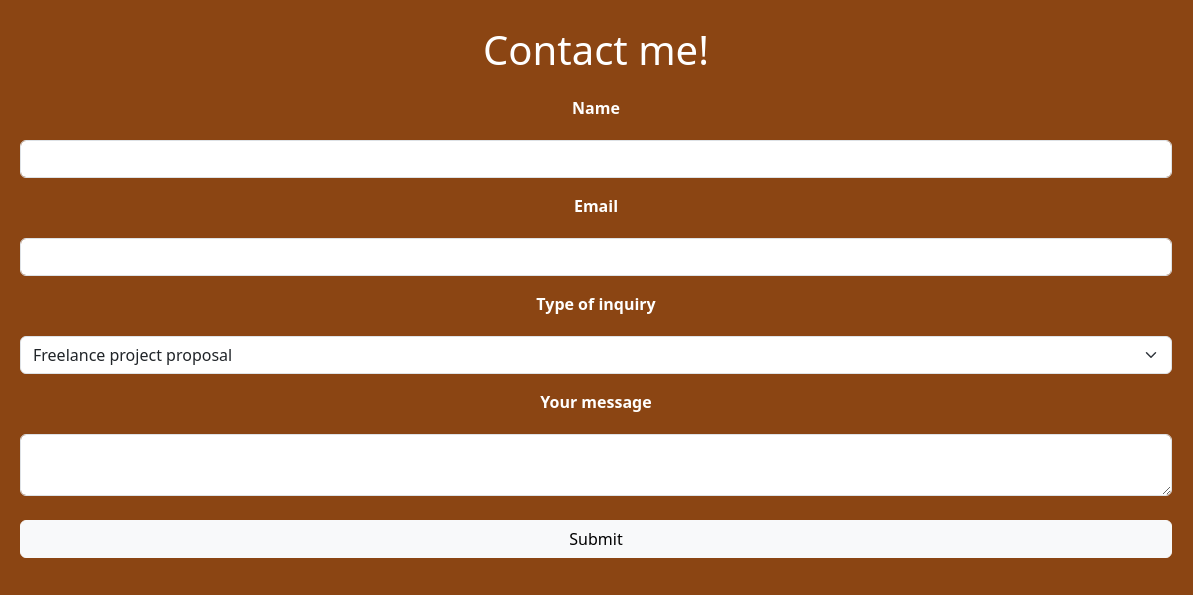
shows required message for Name on blur
Click the field labelled "Name" at [596, 159], box left=20, top=140, right=1172, bottom=178
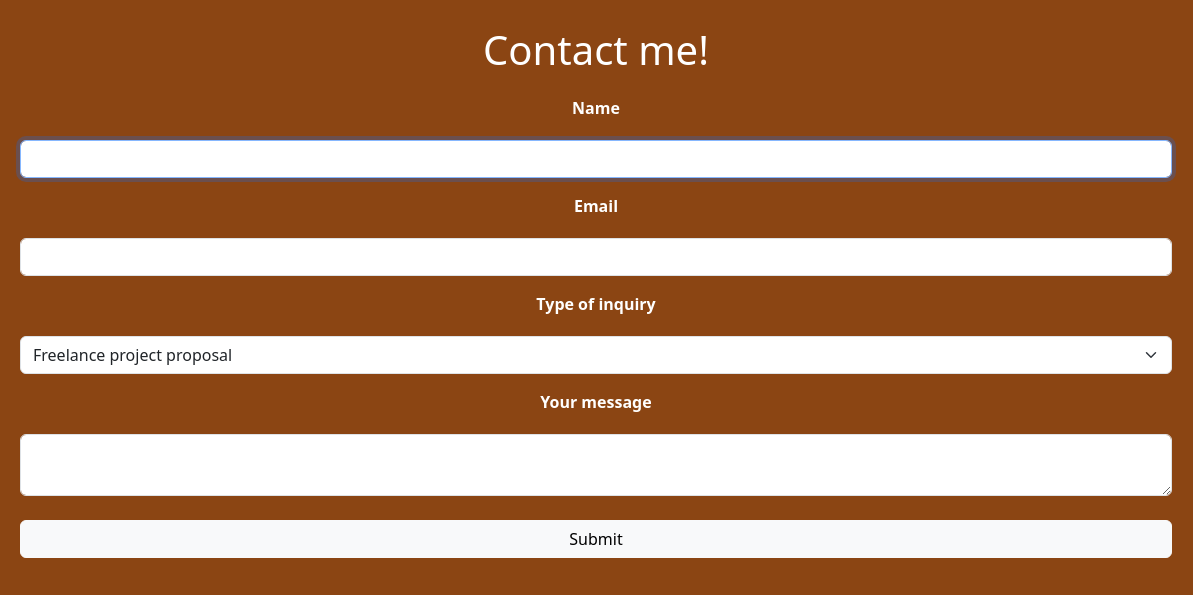
Press Tab
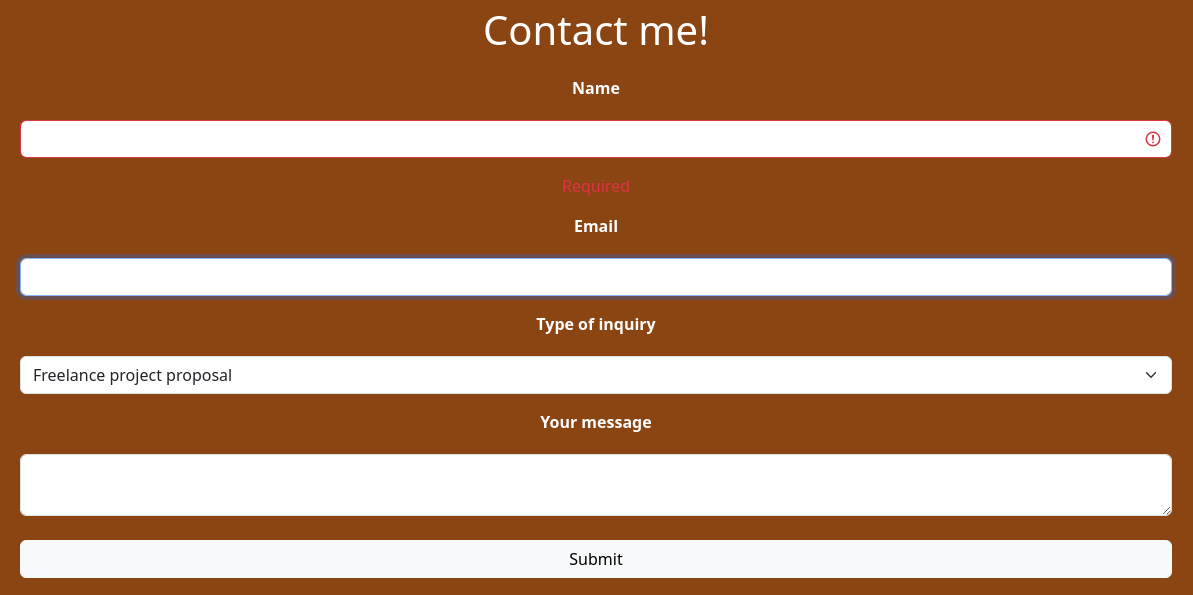
Expected: the text "Required" is shown, left=562, top=175, right=630, bottom=197
